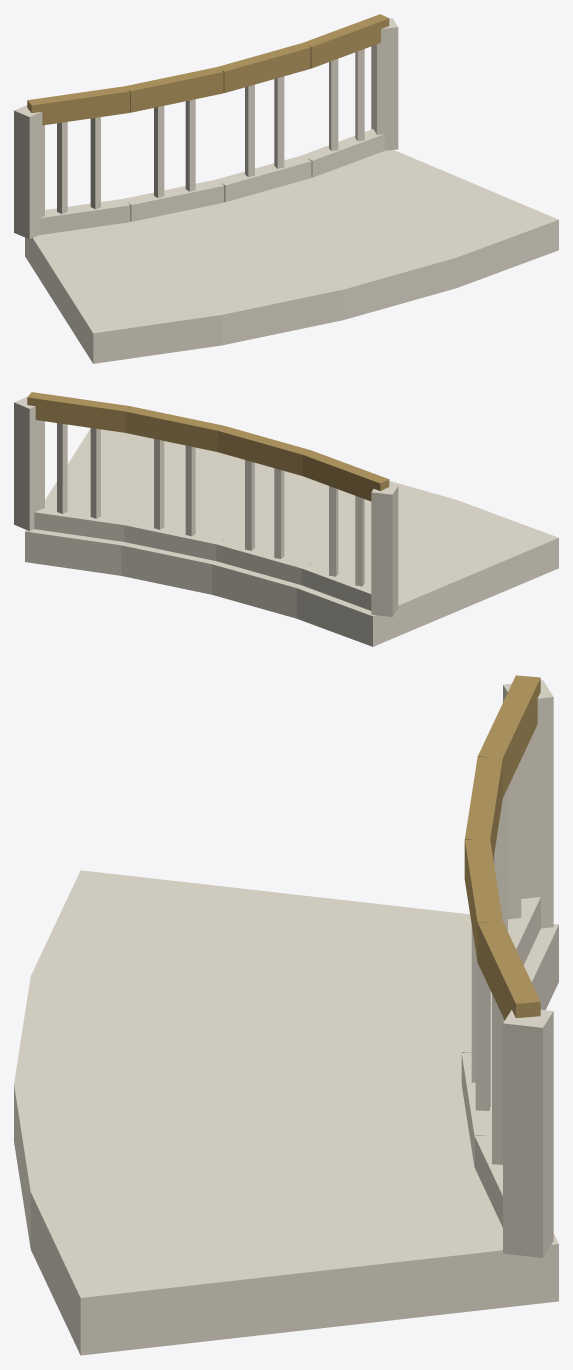
File: VIC_B03_BALCONY_Roblox.fbx
3 renders of one model, top to bottom at view 1: azimuth 30°, elevation 25°; view 2: azimuth 150°, elevation 25°; view 3: azimuth 270°, elevation 25°, orthographic. The views are drawn at different scales.
Visible parts, largest first — view 1: VIC_B03_BALCONY__Floor__Ivory, VIC_B03_BALCONY__Ivory, VIC_B03_BALCONY__Brass; view 2: VIC_B03_BALCONY__Floor__Ivory, VIC_B03_BALCONY__Ivory, VIC_B03_BALCONY__Brass; view 3: VIC_B03_BALCONY__Floor__Ivory, VIC_B03_BALCONY__Ivory, VIC_B03_BALCONY__Brass.
Part boxes in pixels (left/top/right/bottom): VIC_B03_BALCONY__Floor__Ivory: left=25, top=150, right=558, bottom=363; VIC_B03_BALCONY__Ivory: left=14, top=18, right=398, bottom=239; VIC_B03_BALCONY__Brass: left=27, top=14, right=389, bottom=125; VIC_B03_BALCONY__Floor__Ivory: left=25, top=428, right=558, bottom=646; VIC_B03_BALCONY__Ivory: left=14, top=396, right=398, bottom=616; VIC_B03_BALCONY__Brass: left=27, top=392, right=389, bottom=501; VIC_B03_BALCONY__Floor__Ivory: left=14, top=870, right=558, bottom=1355; VIC_B03_BALCONY__Ivory: left=461, top=680, right=553, bottom=1257; VIC_B03_BALCONY__Brass: left=464, top=675, right=540, bottom=1020.
Bounding box in the file's own units: 15.94 × 5.25 × 8.58.
